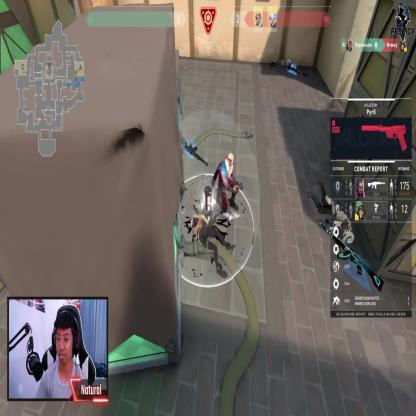enemy: (214, 152, 243, 215)
enemy_head: (227, 152, 234, 167)
